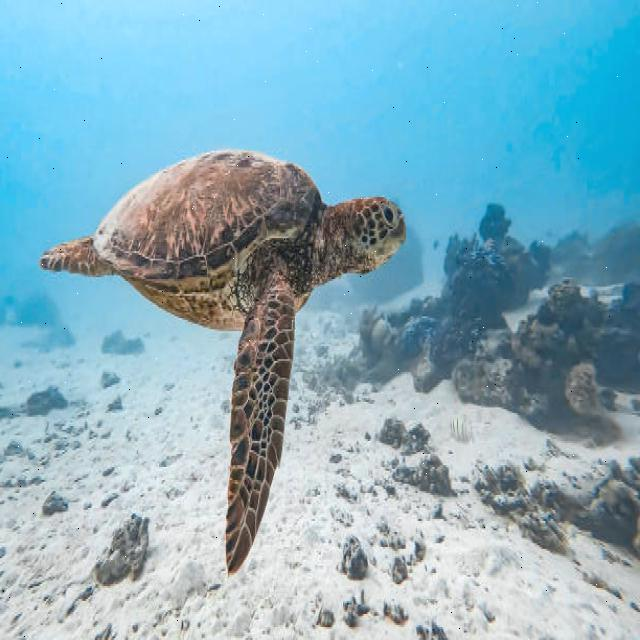tortoise: (29, 143, 412, 571)
